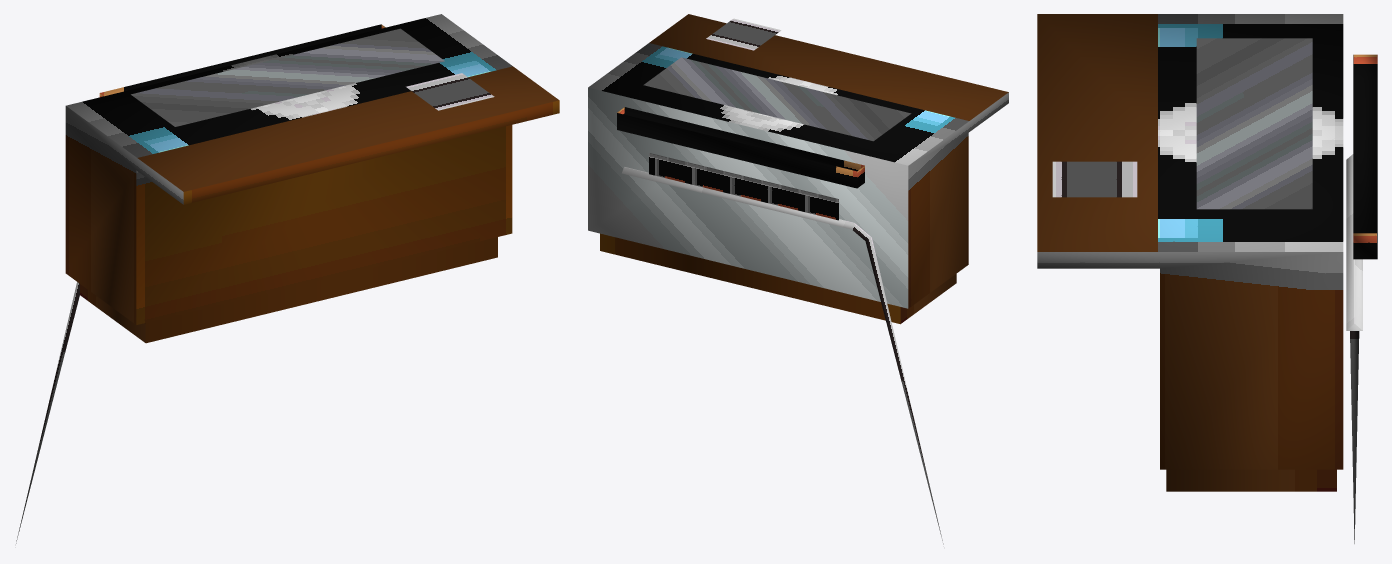
The picture shows the model from 3 angles, left to right: view 1: azimuth 30°, elevation 25°; view 2: azimuth 150°, elevation 25°; view 3: azimuth 270°, elevation 25°; orthographic projection. The views are drawn at different scales.
Parts seen in each view (by area): view 1: 3802kg_sh1_25; view 2: 3802kg_sh1_25; view 3: 3802kg_sh1_25.
Boxes of the visible parts, box(x1,y1,x2,y2) form: 3802kg_sh1_25: box(16, 14, 559, 543); 3802kg_sh1_25: box(588, 14, 1008, 544); 3802kg_sh1_25: box(1037, 14, 1377, 543).
Size of the model in its own units: 1.8 by 1.83 by 0.9666.
Materials: 4 (4 with a texture image).
